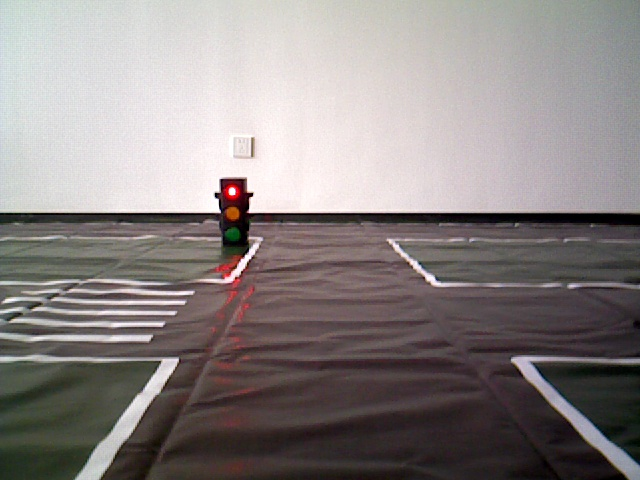red: (220, 176, 243, 250)
